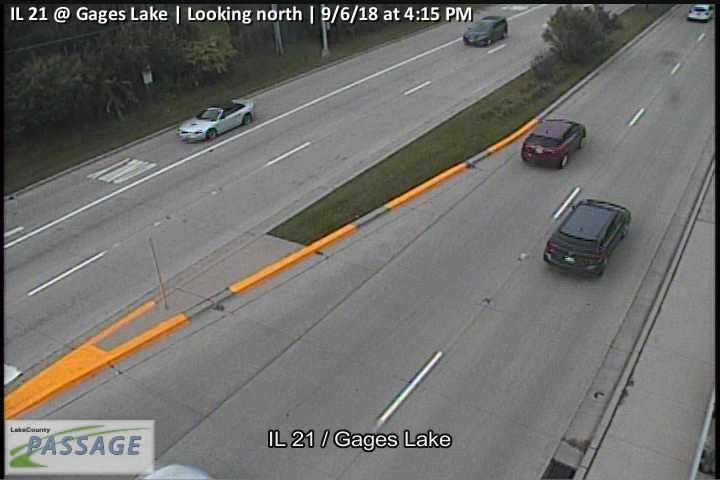SUV: (542, 199, 631, 276), (520, 119, 586, 168), (464, 17, 508, 47)
Sedan: (177, 98, 256, 142), (686, 2, 713, 21)
